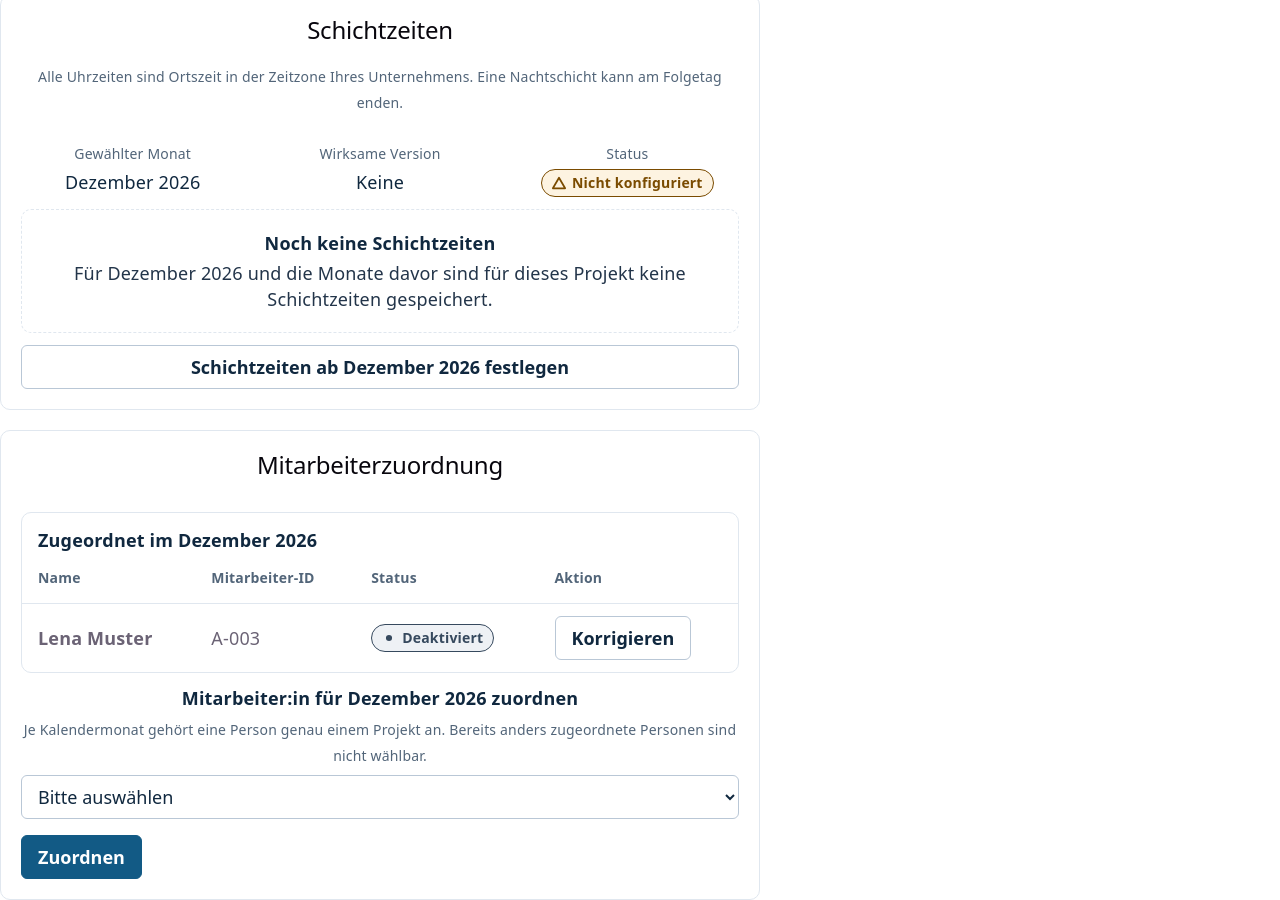
Test case: SP-09 — month assignment (UX A09, real API source) › shows the approved PROJECT_ASSIGNMENT_ALREADY_EXISTS error safely
(page scrolled)
Select "Mira Beispiel (A-001)" in the dropdown labelled "Mitarbeiter:in für Dezember 2026 zuordnen" at (380, 797), box 21,775 -> 739,819
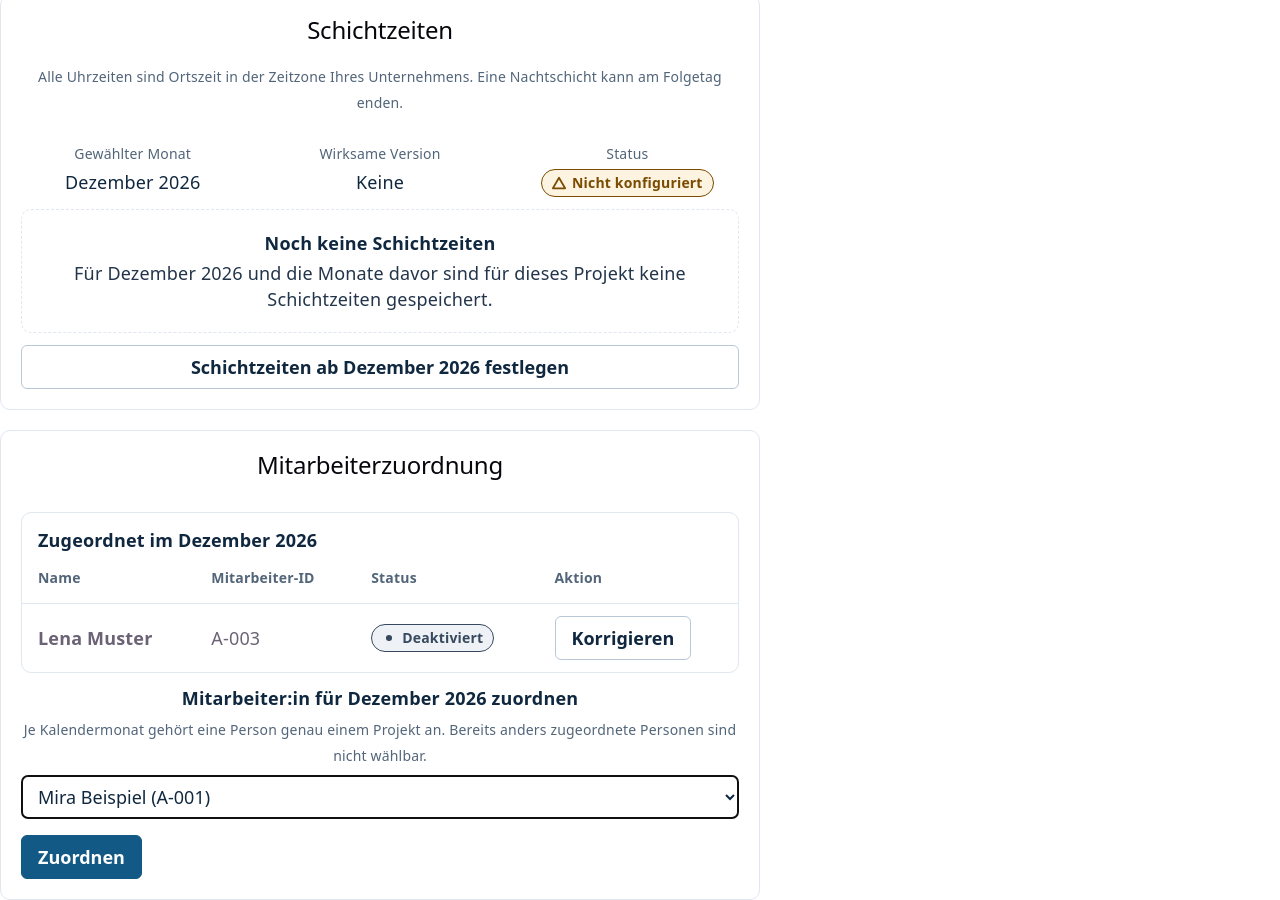
Click the button "Zuordnen" at (81, 857), box 21,835 -> 142,879
(page scrolled)
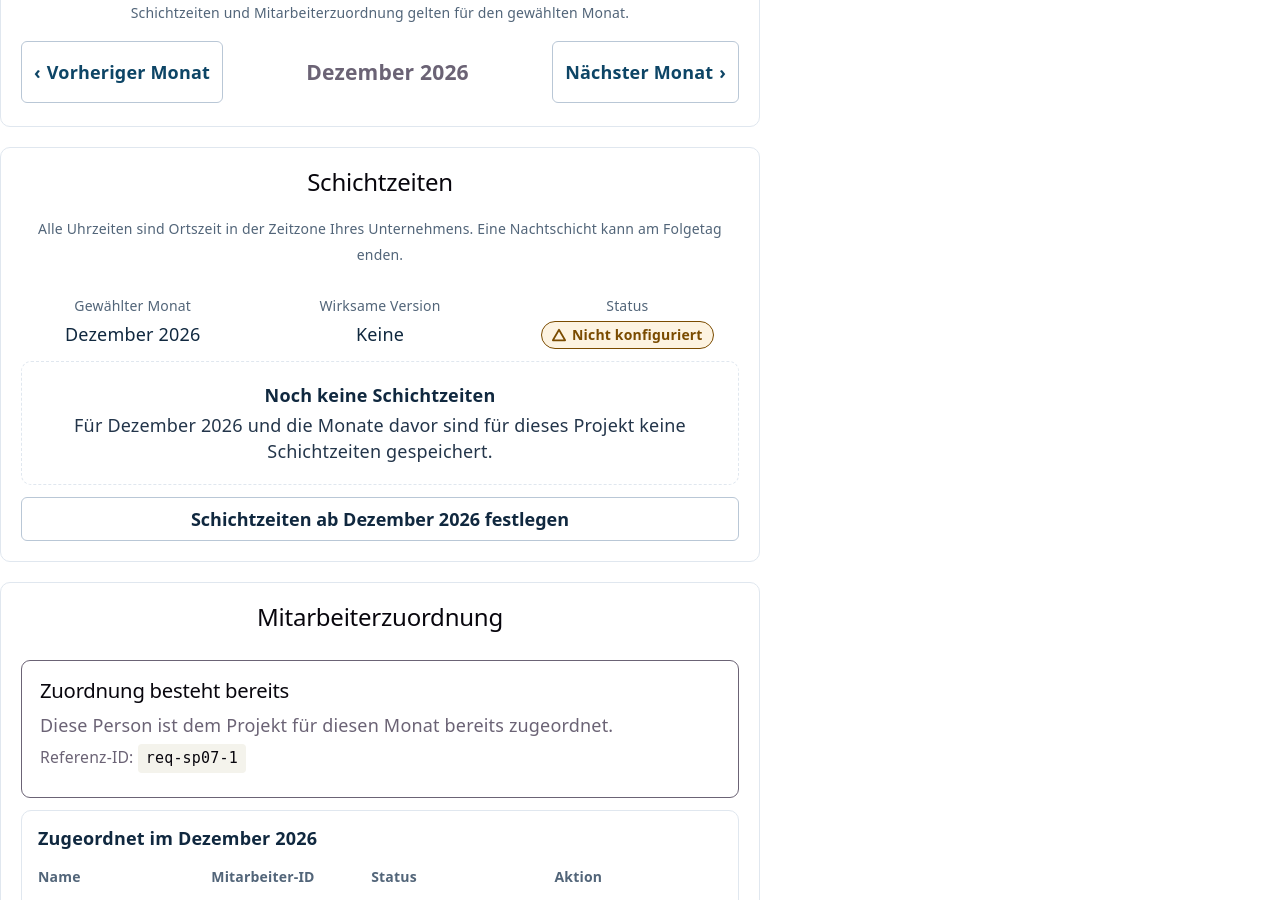
Expected: the message shows "Zuordnung besteht bereits", 40,676 -> 289,704
Expected: the message shows "req-sp07-1", 146,750 -> 238,768
